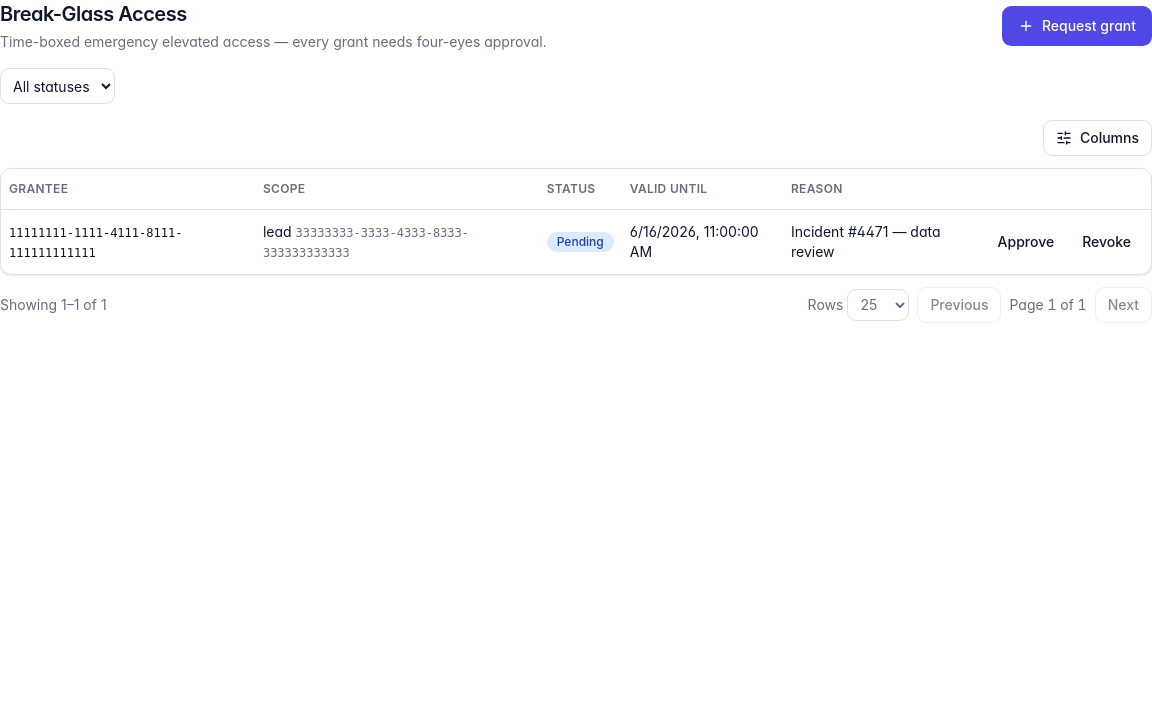
Test: BreakGlassPage › surfaces FORBIDDEN (four-eyes) inline when approving fails
Click the button "Approve". click: [1026, 242]
box: 986,224 -> 1066,260
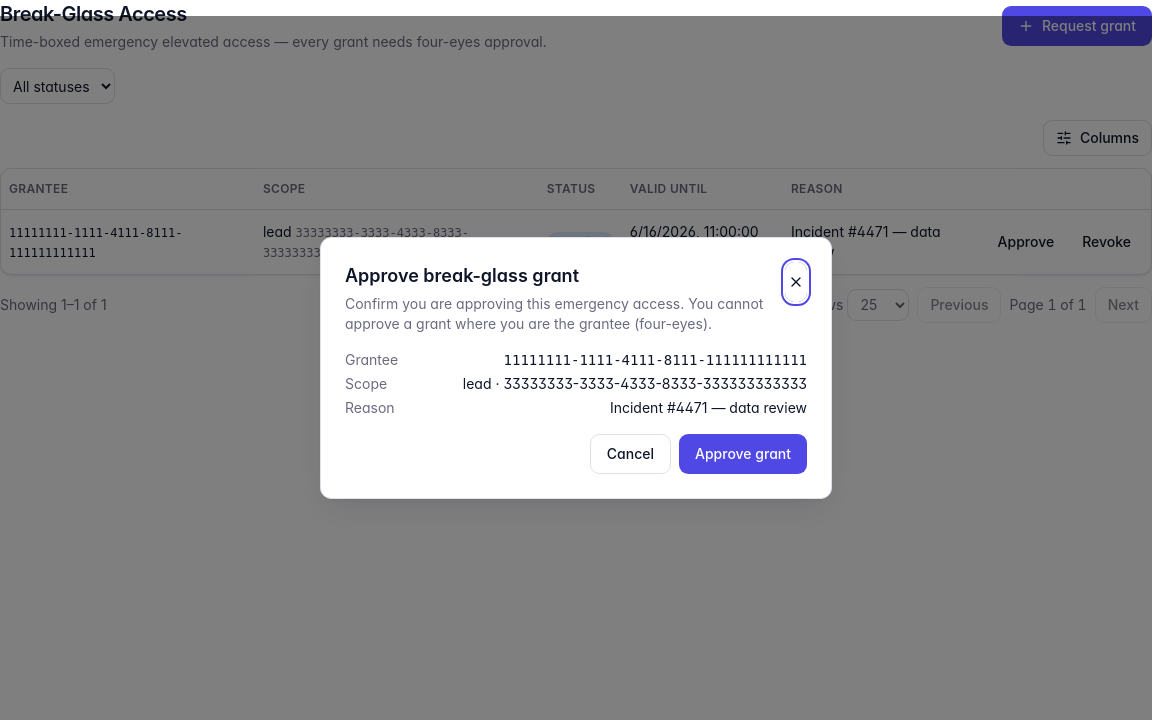
Click the button "Approve grant". click: [743, 454]
box: 679,434 -> 807,474
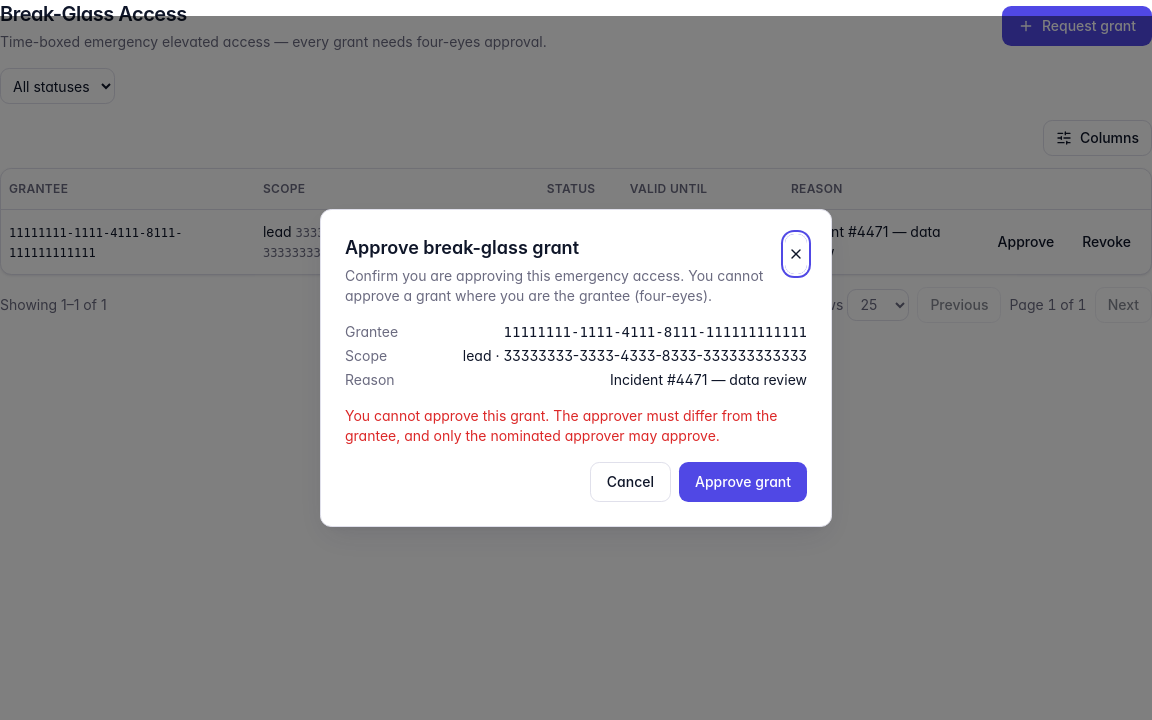
Expected: the dialog is shown, 320,209 -> 832,527
Expected: the message shows "approver must differ from the grantee", 345,407 -> 778,444
